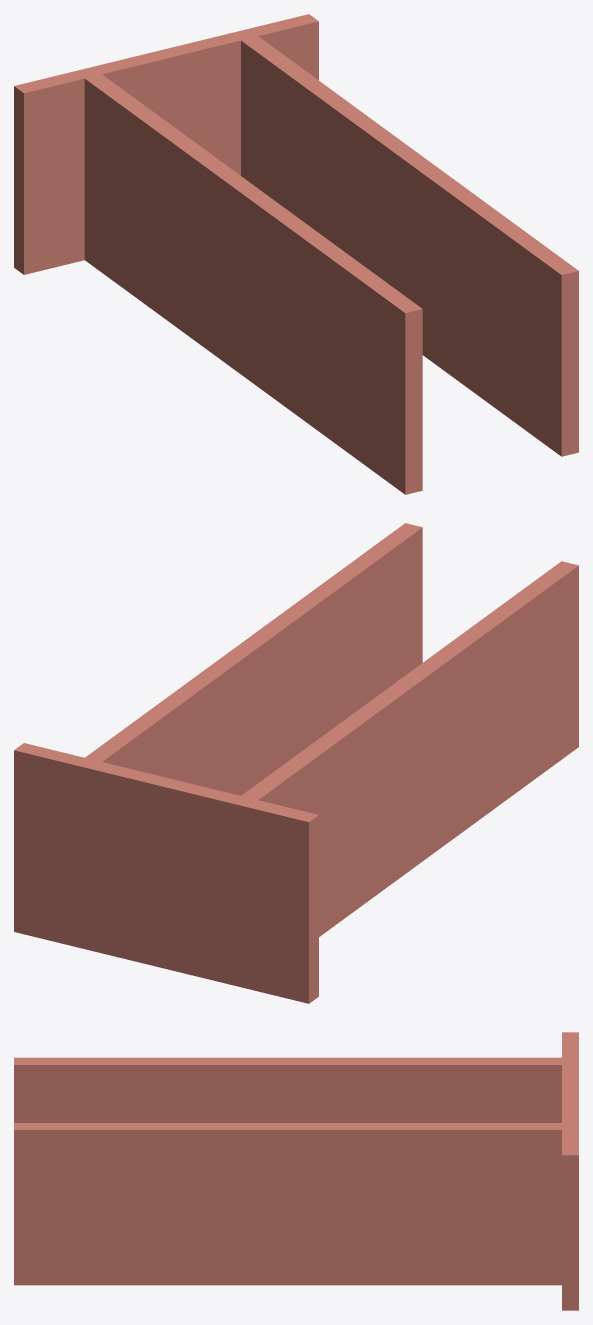
Rendered from blockers_test_top.glb.
3 renders of one model, top to bottom at view 1: azimuth 30°, elevation 25°; view 2: azimuth 150°, elevation 25°; view 3: azimuth 270°, elevation 25°, orthographic. The views are drawn at different scales.
Visible parts, largest first — view 1: BLOCKER_TestTop_LeftCliff, BLOCKER_TestTop_RightCliff, BLOCKER_TestTop_BackCliff; view 2: BLOCKER_TestTop_BackCliff, BLOCKER_TestTop_LeftCliff, BLOCKER_TestTop_RightCliff; view 3: BLOCKER_TestTop_RightCliff, BLOCKER_TestTop_LeftCliff, BLOCKER_TestTop_BackCliff.
Part boxes in pixels (x1=…): BLOCKER_TestTop_LeftCliff: x1=84, y1=74, x2=422, y2=494; BLOCKER_TestTop_RightCliff: x1=241, y1=36, x2=578, y2=456; BLOCKER_TestTop_BackCliff: x1=14, y1=14, x2=318, y2=274; BLOCKER_TestTop_BackCliff: x1=14, y1=743, x2=318, y2=1003; BLOCKER_TestTop_LeftCliff: x1=241, y1=561, x2=578, y2=936; BLOCKER_TestTop_RightCliff: x1=85, y1=523, x2=422, y2=795; BLOCKER_TestTop_RightCliff: x1=14, y1=1123, x2=561, y2=1285; BLOCKER_TestTop_LeftCliff: x1=14, y1=1057, x2=561, y2=1122; BLOCKER_TestTop_BackCliff: x1=562, y1=1032, x2=578, y2=1310.
Bounding box in the file's own units: 8.5 × 5 × 16.5.
